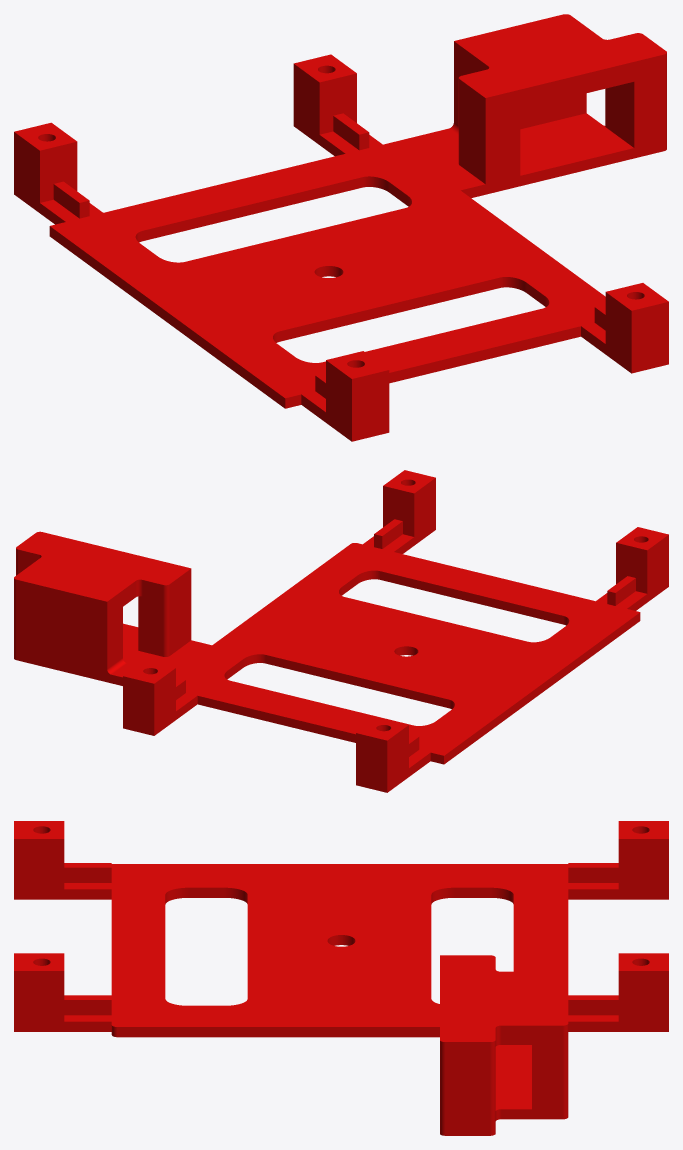
The model's file is Arriba.dae.
3 views of the same model, one above another, from view 1: azimuth 30°, elevation 25°; view 2: azimuth 150°, elevation 25°; view 3: azimuth 270°, elevation 25° (orthographic). The views are drawn at different scales.
Visible parts, largest first — view 1: tmp_export_Arriba; view 2: tmp_export_Arriba; view 3: tmp_export_Arriba.
Part boxes in pixels (bbox=[...]): tmp_export_Arriba: bbox=[14, 14, 668, 441]; tmp_export_Arriba: bbox=[14, 470, 668, 792]; tmp_export_Arriba: bbox=[14, 821, 668, 1135].
Size of the model in its own units: 0.1108 by 0.1172 by 0.0185.
